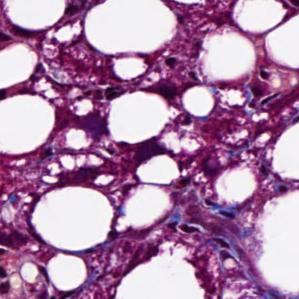inflammation: (239, 64, 282, 110), (165, 217, 202, 241), (207, 236, 236, 259)
